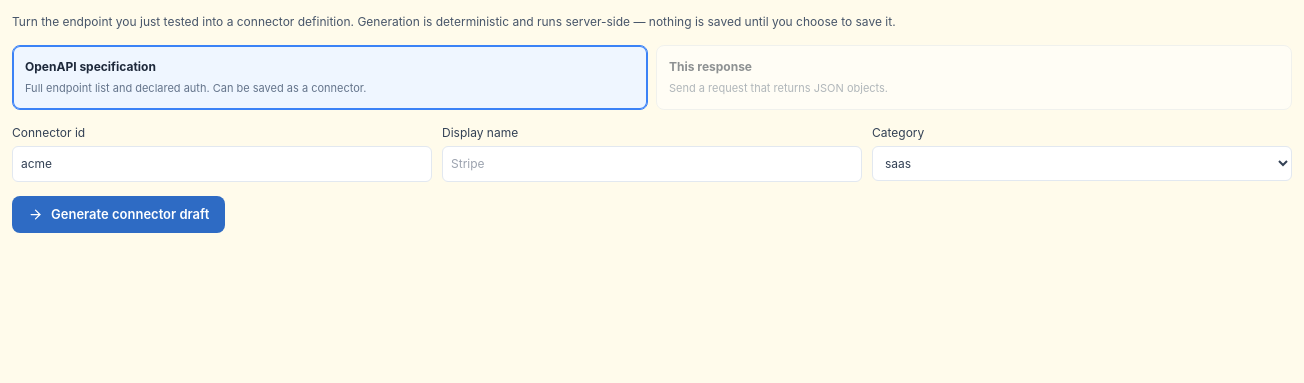
Scenario: connector draft step › does not present an older backend response as a runnable definition
The image size is (1304, 383).
Click the button "Generate connector draft".
click(119, 214)  # box [12,196,225,233]
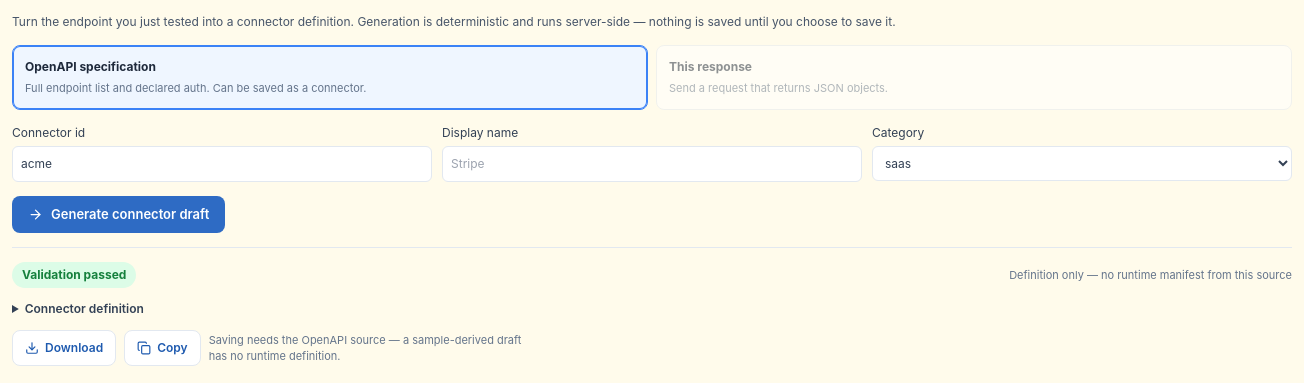
Check: the text "Validation passed" is shown, box [12,262,136,288]
Check: the text "Definition only — no runtime manifest from this source" is shown, box [1009,267,1292,283]
